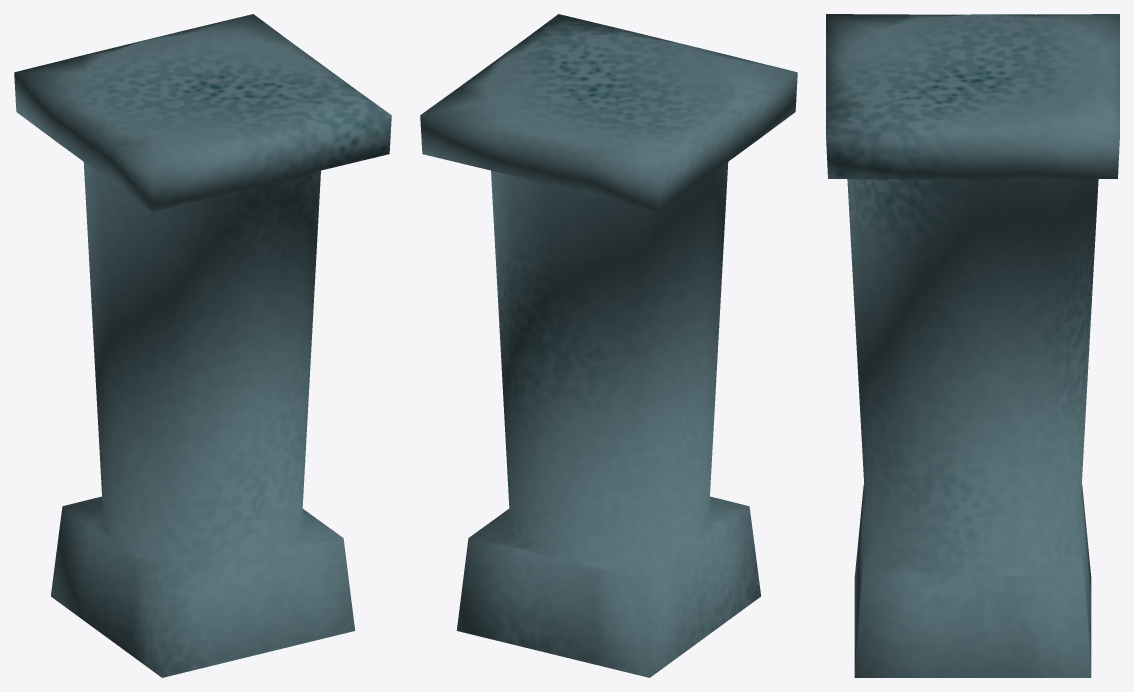
Rendered from OLD_ShortColumn 1.fbx.
The picture shows the model from 3 angles, left to right: view 1: azimuth 30°, elevation 25°; view 2: azimuth 150°, elevation 25°; view 3: azimuth 270°, elevation 25°; orthographic projection. The views are drawn at different scales.
Parts seen in each view (by area): view 1: Pillar.003; view 2: Pillar.003; view 3: Pillar.003.
Part boxes in pixels (x1,y1,x2,y2): Pillar.003: [14, 14, 391, 677]; Pillar.003: [420, 14, 797, 677]; Pillar.003: [826, 14, 1119, 677].
Size of the model in its own units: 278 by 585 by 279.
Materials: 1 (1 with a texture image).
